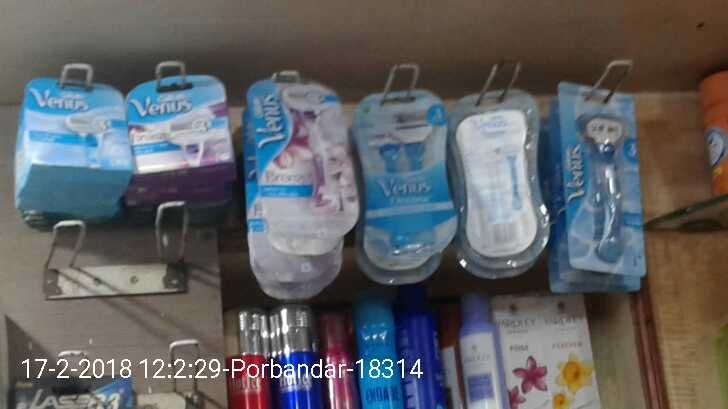venus: (245, 83, 360, 249), (357, 90, 455, 270), (568, 74, 646, 277), (128, 76, 235, 170), (27, 81, 126, 175)
